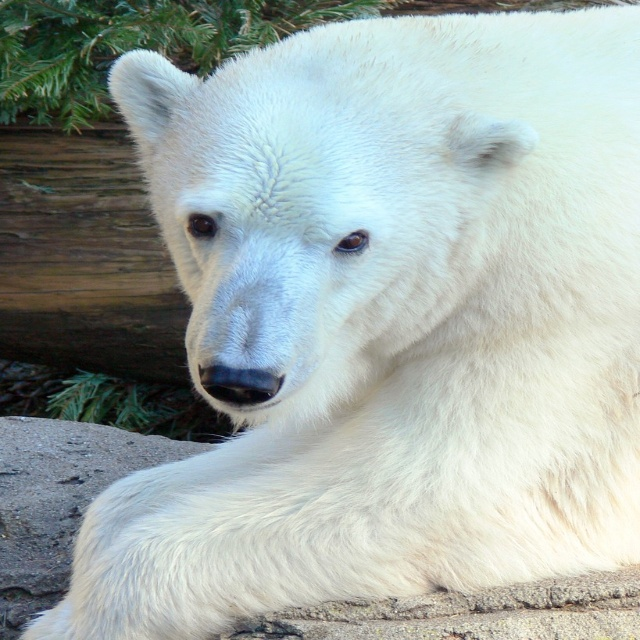Polar bear: (12, 2, 639, 640)
